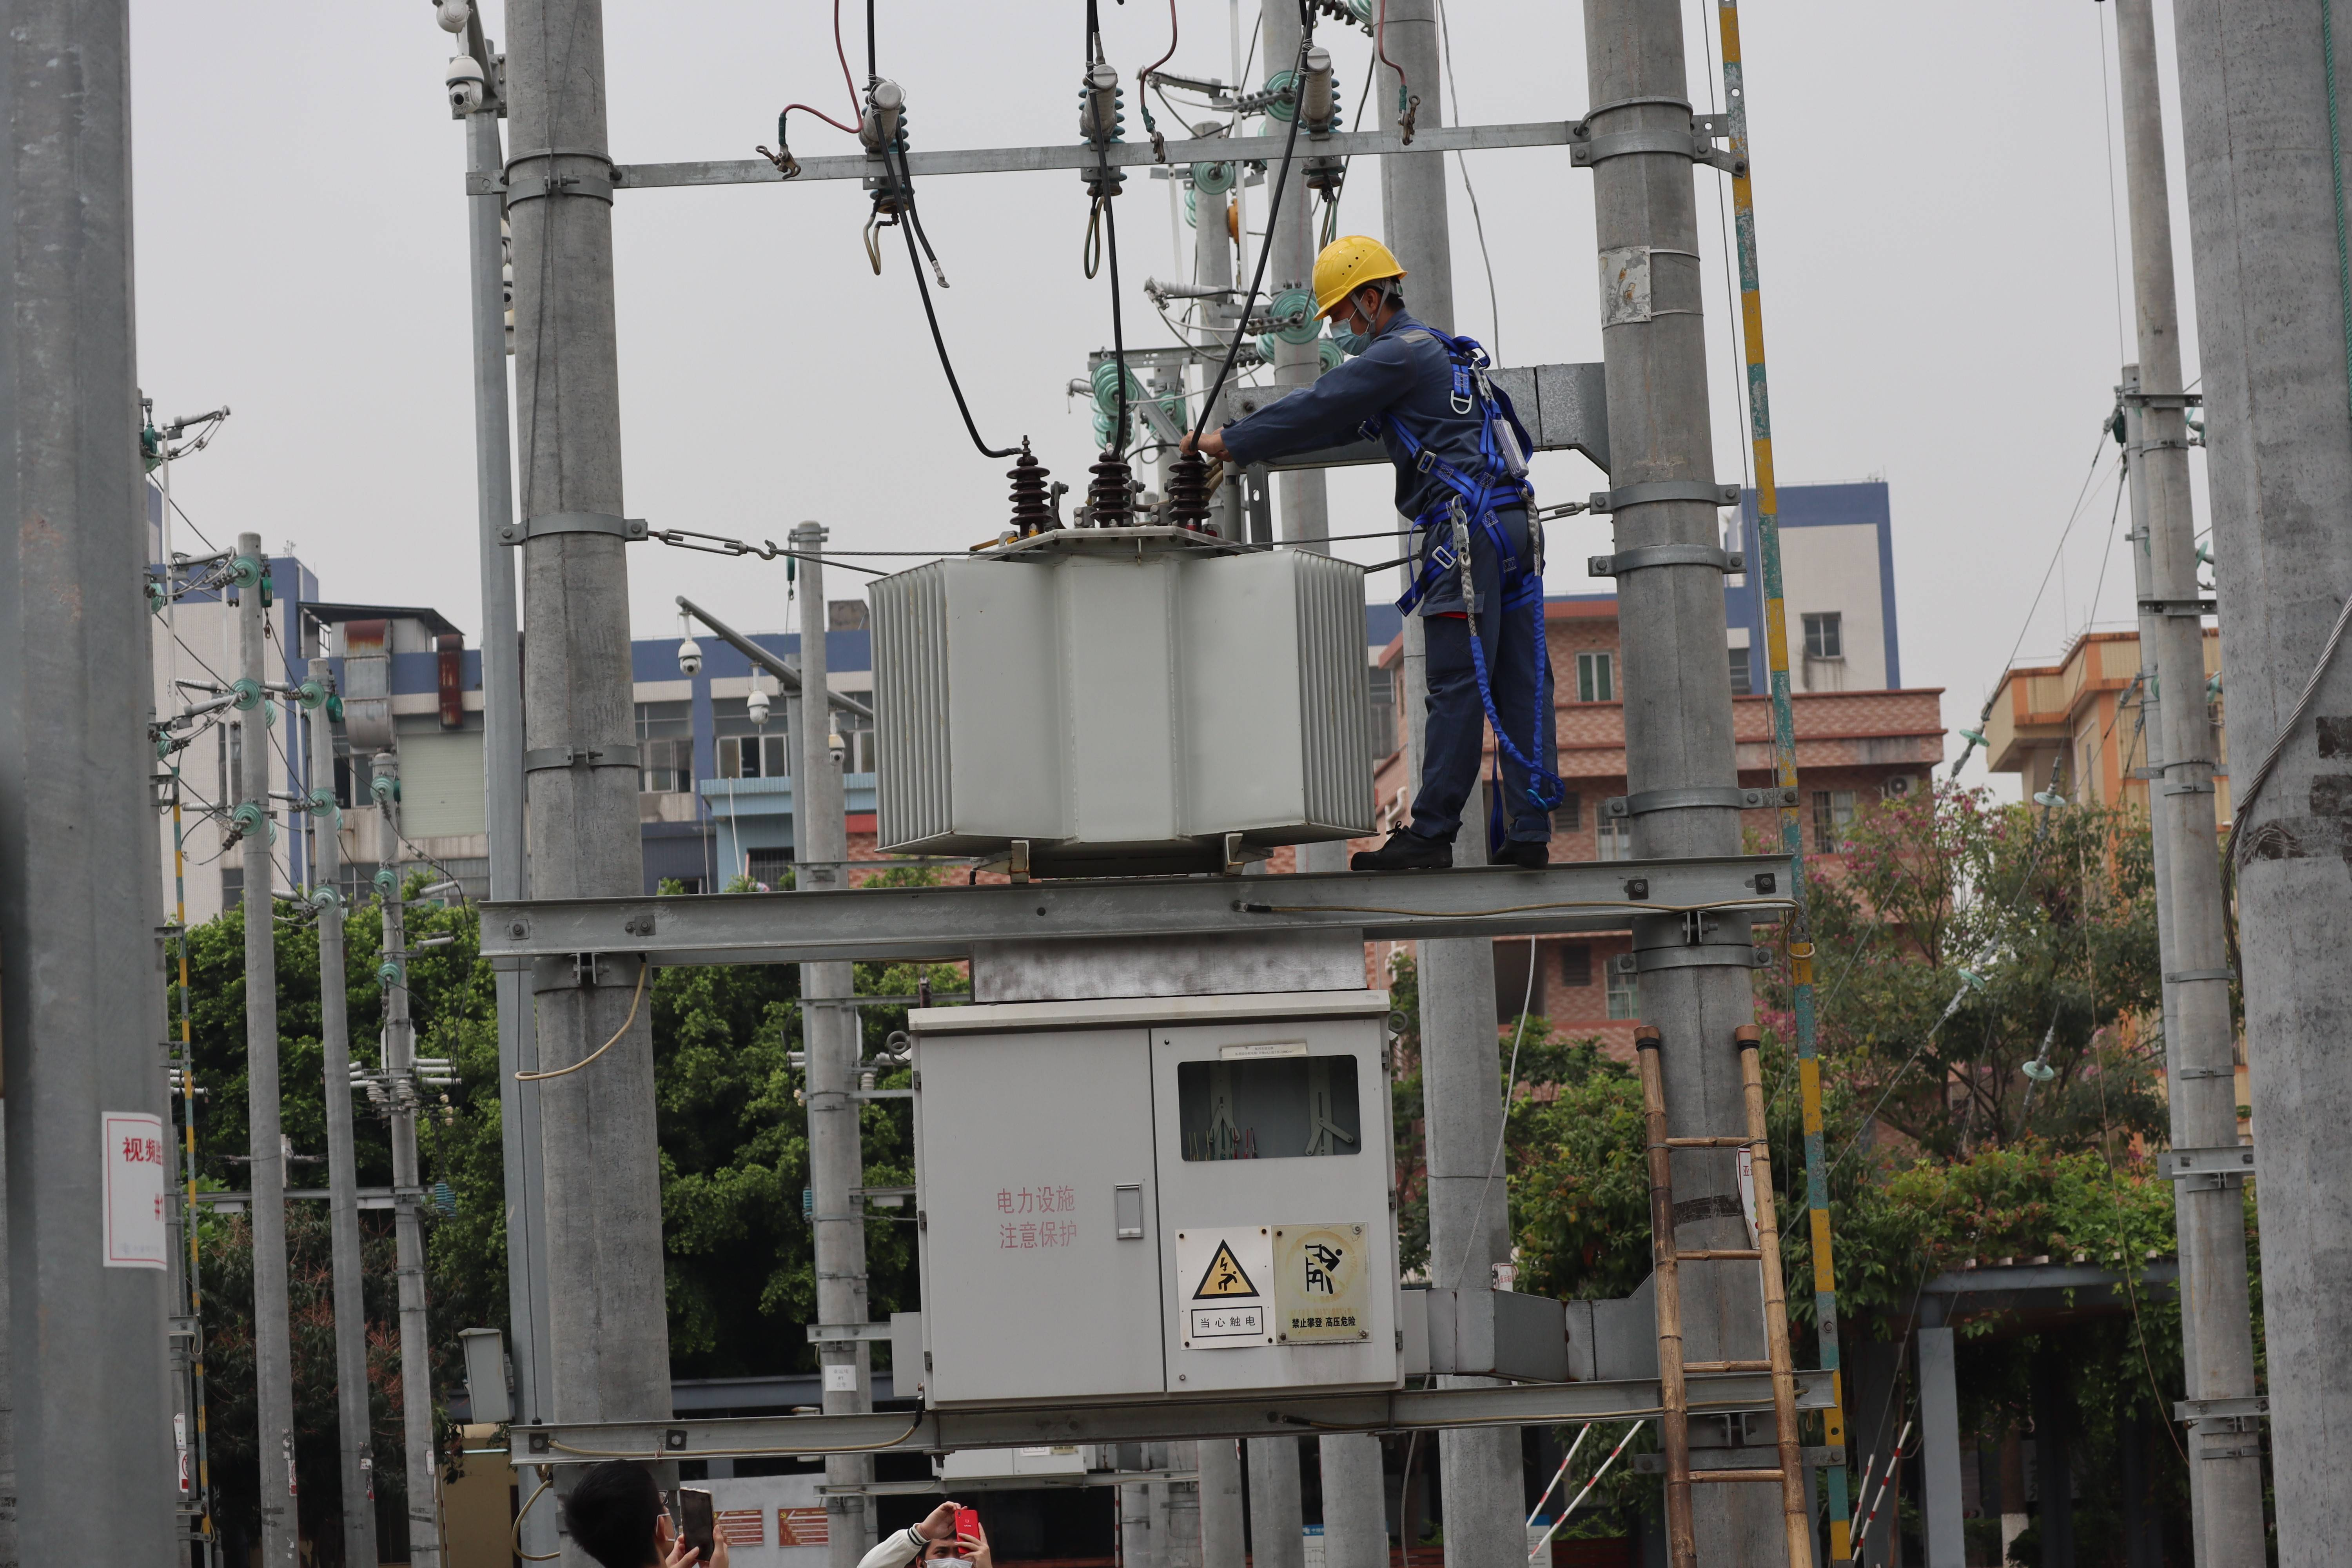downsuit: (1381, 509, 1575, 837)
upsuit: (1221, 322, 1540, 495)
